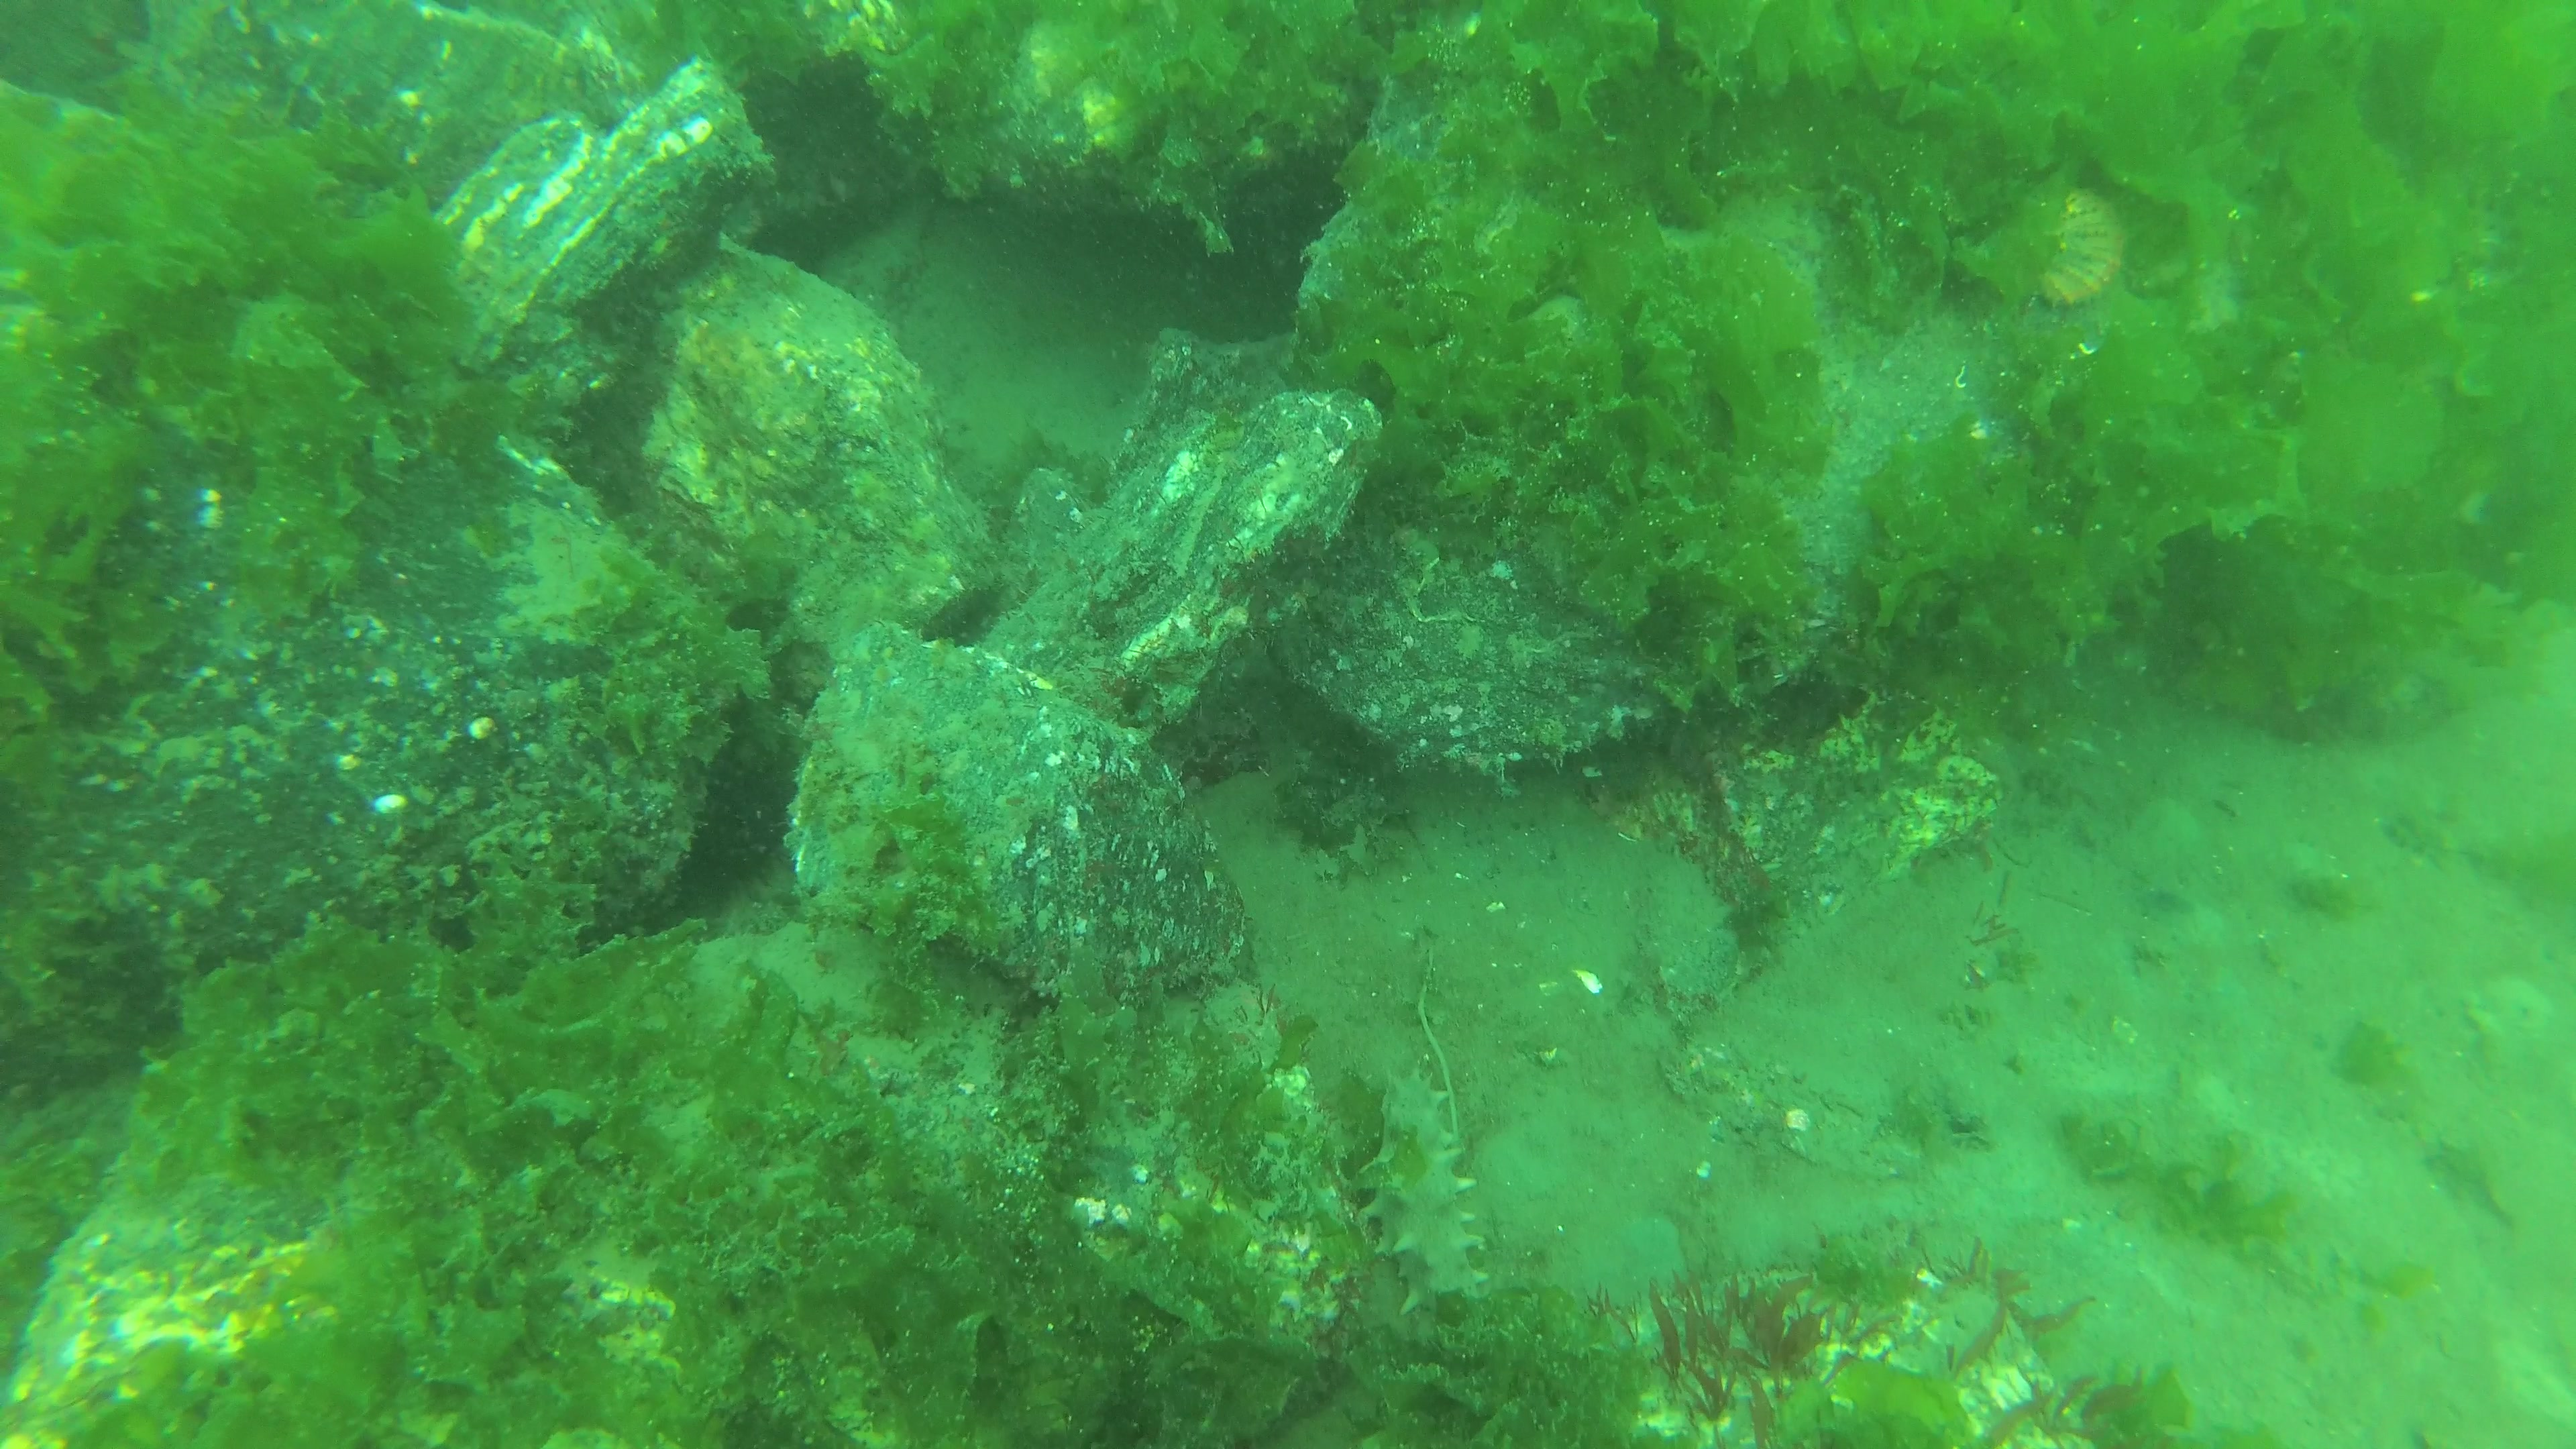echinus: (679, 685, 789, 901)
holothurian: (1352, 1058, 1488, 1323)
scallop: (2036, 189, 2128, 311)
